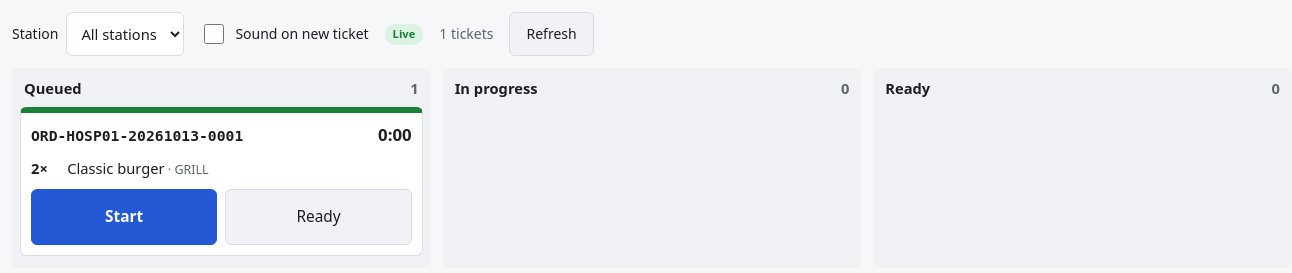
it: KitchenDisplay › refreshes on 409 TICKET_STATE_CONFLICT
The width and height of the screenshot is (1292, 273).
Step 1. Click the button "Start" → (124, 217), box left=31, top=189, right=217, bottom=245
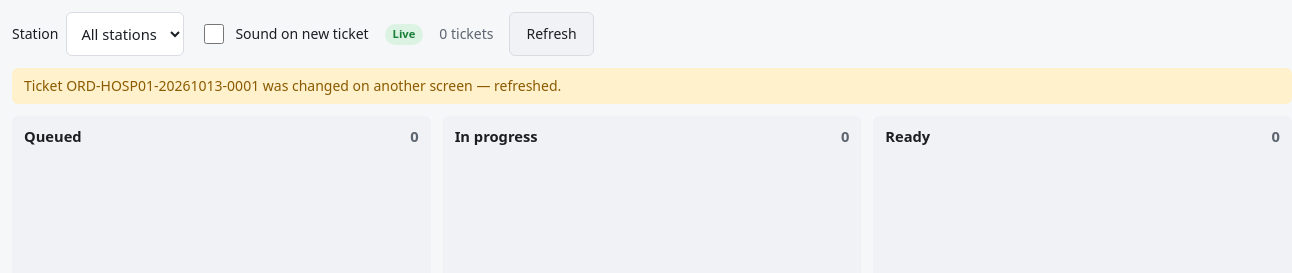
Expected: the text "Ticket ORD-HOSP01-20261013-0001 was changed on another screen — refreshed." is shown, left=12, top=68, right=1291, bottom=104
